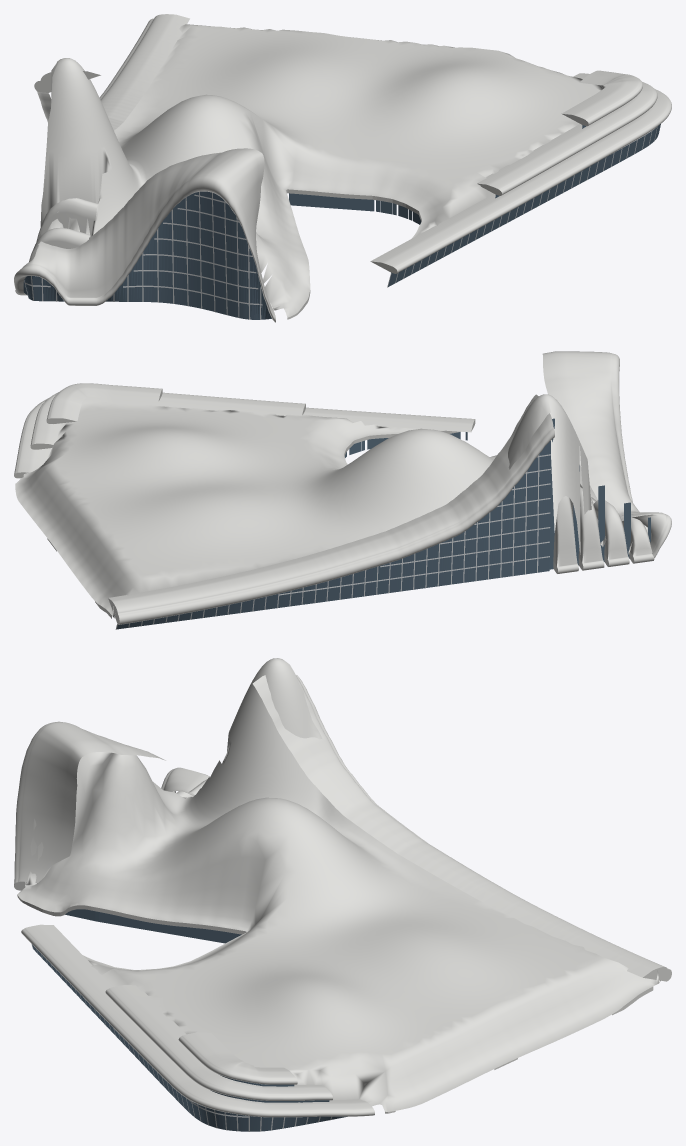
Rendered from baku-heydar-aliyev-center.detail.glb.
3 renders of one model, top to bottom at view 1: azimuth 30°, elevation 25°; view 2: azimuth 150°, elevation 25°; view 3: azimuth 270°, elevation 25°, orthographic. The views are drawn at different scales.
Parts seen in each view (by area): view 1: Heydar Aliyev Center; view 2: Heydar Aliyev Center; view 3: Heydar Aliyev Center.
Part boxes in pixels (bbox=[...]): Heydar Aliyev Center: bbox=[14, 14, 671, 322]; Heydar Aliyev Center: bbox=[14, 351, 671, 629]; Heydar Aliyev Center: bbox=[14, 658, 671, 1131].
Size of the model in its own units: 216 by 58 by 180.
